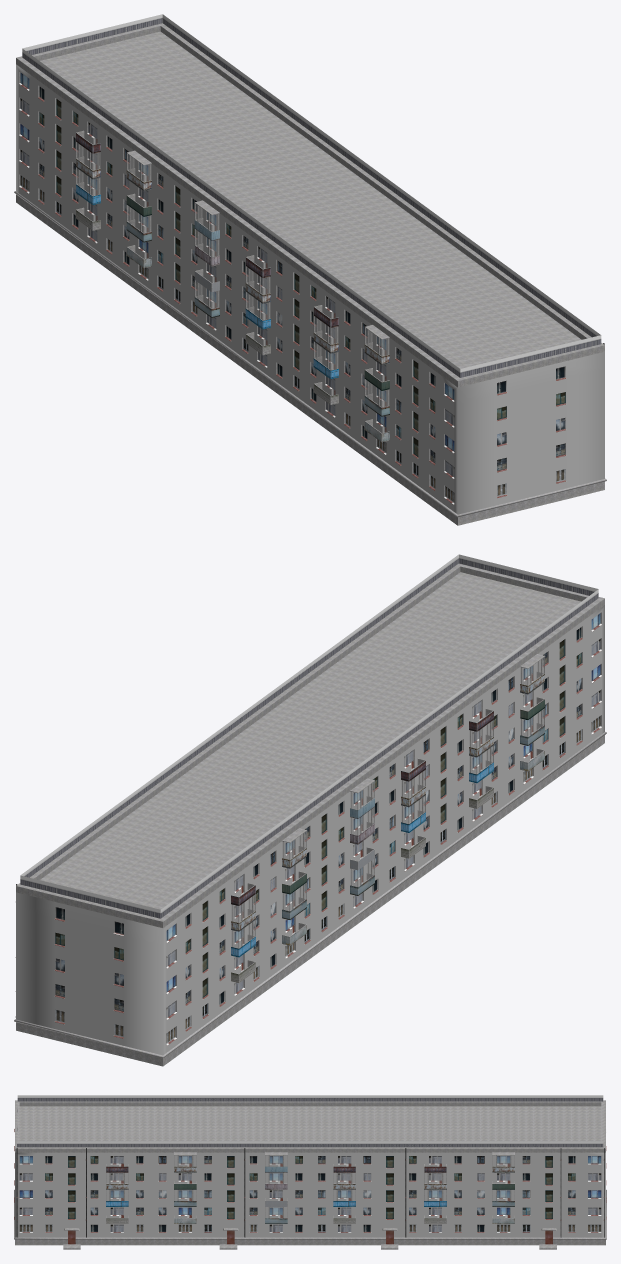
File: old_house1.fbx
3 renders of one model, top to bottom at view 1: azimuth 30°, elevation 25°; view 2: azimuth 150°, elevation 25°; view 3: azimuth 270°, elevation 25°, orthographic. The views are drawn at different scales.
Visible parts, largest first — view 1: house, roof, fence; view 2: house, roof, fence; view 3: house, roof, fence.
Boxes of the visible parts, box(x1,y1,x2,y2) form: house: box(14, 64, 606, 525); roof: box(16, 23, 604, 387); fence: box(22, 14, 601, 377); house: box(14, 605, 606, 1066); roof: box(16, 563, 604, 927); fence: box(20, 554, 598, 918); house: box(14, 1129, 606, 1249); roof: box(15, 1100, 605, 1152); fence: box(17, 1095, 603, 1147).
Size of the model in its own units: 4323 by 3834 by 19877.
